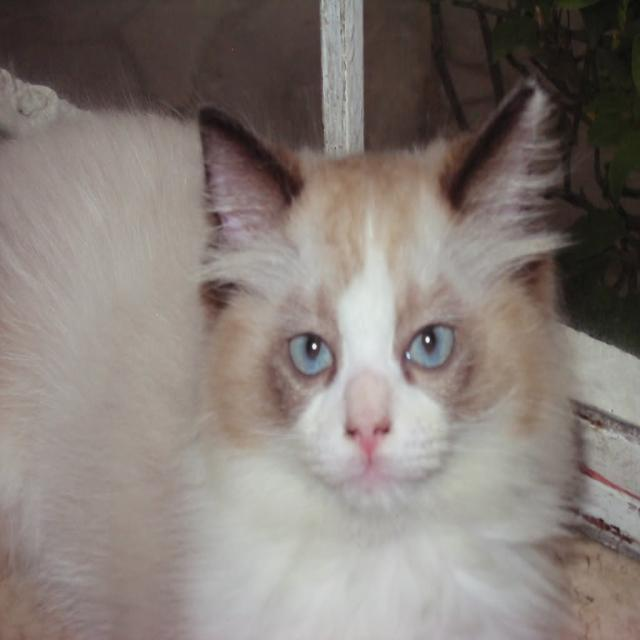Ragdoll: (190, 77, 568, 524)
